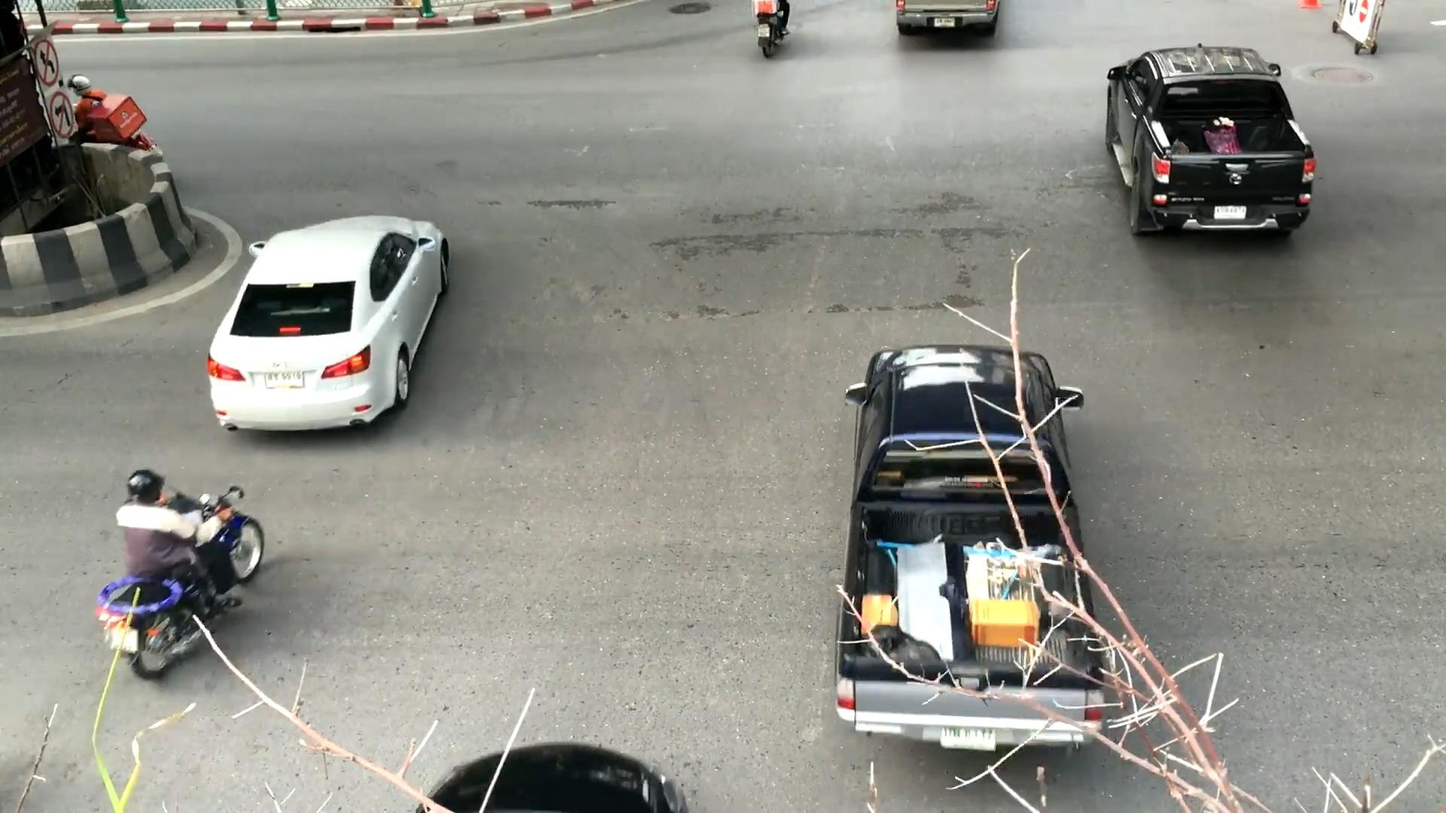driver: (96, 469, 264, 681)
helmet: (127, 469, 164, 505), (67, 74, 92, 96)
